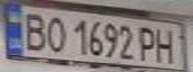1: (66, 16, 87, 55)
2: (118, 21, 139, 61)
6: (84, 18, 106, 57)
9: (103, 20, 121, 58)
B: (18, 10, 51, 52)
H: (151, 25, 178, 64)
O: (42, 12, 69, 53)
P: (136, 24, 160, 63)
